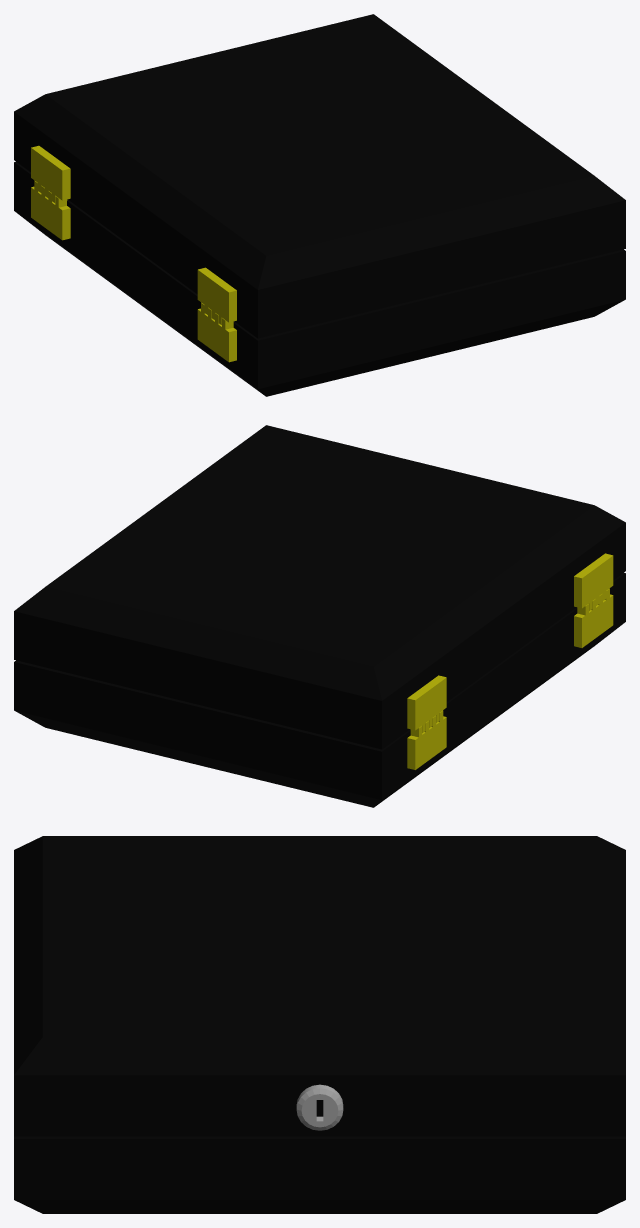
The model's file is DrugCase.fbx.
3 views of the same model, one above another, from view 1: azimuth 30°, elevation 25°; view 2: azimuth 150°, elevation 25°; view 3: azimuth 270°, elevation 25° (orthographic). The views are drawn at different scales.
Visible parts, largest first — view 1: caseTop, caseBottom, buckleLeftTop, buckleRightTop, buckleRightBot, buckleLeftBot; view 2: caseTop, caseBottom, buckleLeftTop, buckleRightTop, buckleLeftBot, buckleRightBot; view 3: caseTop, caseBottom, keyHole.
Boxes of the visible parts, x1,y1,x2,y2 form: caseTop: (14,14,625,338); caseBottom: (14,162,625,396); buckleLeftTop: (31,145,70,202); buckleRightTop: (197,267,236,324); buckleRightBot: (197,302,236,362); buckleLeftBot: (31,180,70,240); caseTop: (14,425,625,749); caseBottom: (14,573,625,807); buckleLeftTop: (407,675,446,732); buckleRightTop: (574,553,613,610); buckleLeftBot: (407,710,446,769); buckleRightBot: (574,588,613,647); caseTop: (14,836,625,1136); caseBottom: (14,1136,625,1213); keyHole: (296,1084,343,1130).
Size of the model in its own units: 3.97 by 1.39 by 4.36.
